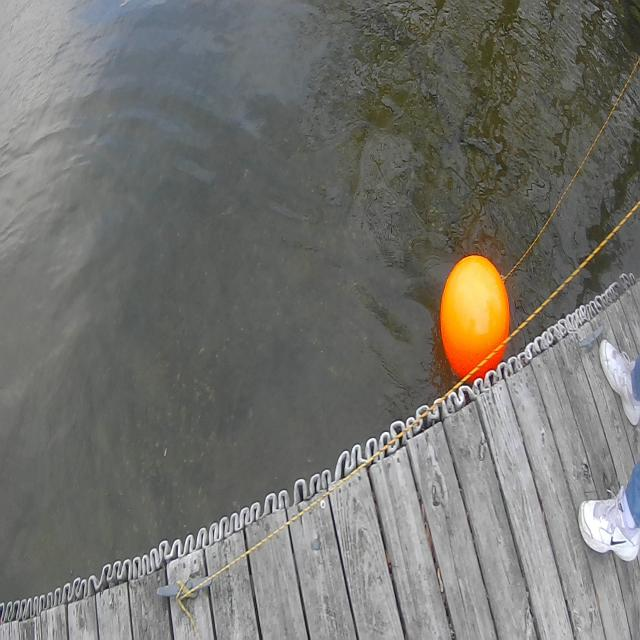Buoy: (438, 248, 516, 390)
